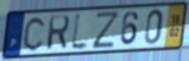0: (143, 8, 164, 47)
6: (120, 11, 140, 47)
C: (22, 15, 48, 53)
L: (69, 9, 91, 53)
R: (45, 14, 71, 52)
Z: (91, 10, 121, 50)
